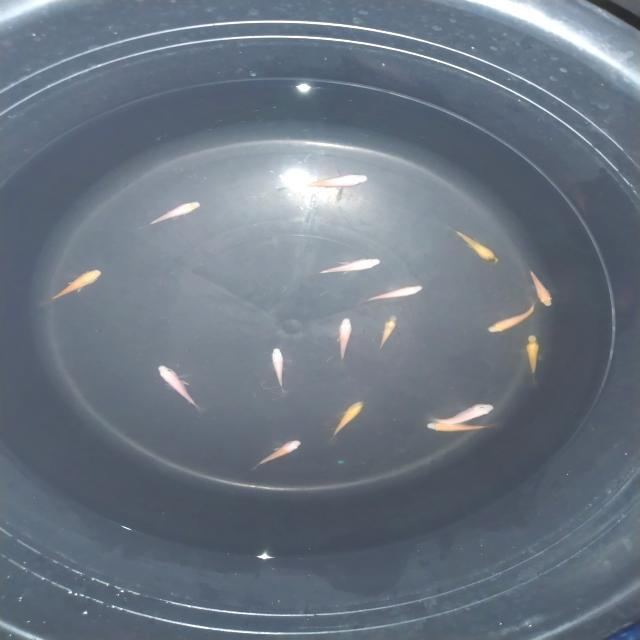nila: (270, 172, 372, 199), (156, 362, 207, 414), (40, 270, 104, 308), (134, 201, 204, 235), (485, 298, 546, 335), (448, 226, 503, 265), (325, 399, 368, 445), (246, 438, 306, 469), (424, 402, 498, 425), (312, 257, 388, 279), (524, 262, 556, 308), (360, 284, 424, 306), (423, 420, 504, 436), (374, 312, 399, 354), (268, 344, 288, 394), (523, 331, 541, 384), (336, 316, 354, 366)
